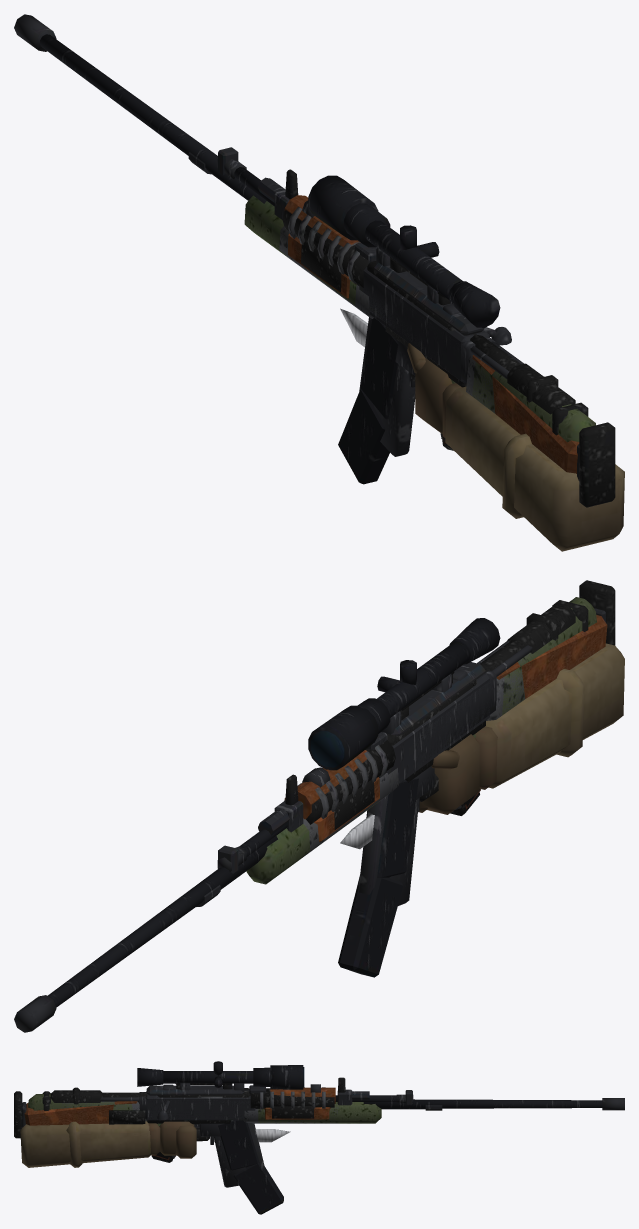
Rendered from weapons.glb.
The picture shows the model from 3 angles, top to bottom: view 1: azimuth 30°, elevation 25°; view 2: azimuth 150°, elevation 25°; view 3: azimuth 270°, elevation 25°; orthographic projection. The views are drawn at different scales.
Parts seen in each view (by area): view 1: awp, ak47, arm_t, m4a1, scout, mp5; view 2: awp, ak47, arm_t, m4a1, mp5, scout, knife; view 3: ak47, awp, arm_t, m4a1, mp5, scout, knife.
Part boxes in pixels (<box>): awp: <box>14,14,615,507</box>; ak47: <box>188,147,579,484</box>; arm_t: <box>407,343,624,551</box>; m4a1: <box>217,159,575,456</box>; scout: <box>279,203,588,435</box>; mp5: <box>301,200,558,437</box>; awp: <box>14,580,615,1032</box>; ak47: <box>196,608,607,977</box>; arm_t: <box>419,643,624,814</box>; m4a1: <box>217,603,575,905</box>; mp5: <box>302,613,558,894</box>; scout: <box>302,600,588,857</box>; knife: <box>340,773,438,849</box>; ak47: <box>22,1085,442,1214</box>; awp: <box>14,1061,624,1138</box>; arm_t: <box>20,1121,196,1167</box>; m4a1: <box>50,1077,413,1187</box>; mp5: <box>72,1084,320,1168</box>; scout: <box>42,1067,338,1123</box>; knife: <box>196,1129,290,1144</box>.
Bounding box in the file's own units: 5.17 × 15.92 × 58.9.
11 materials, 11 textured.
